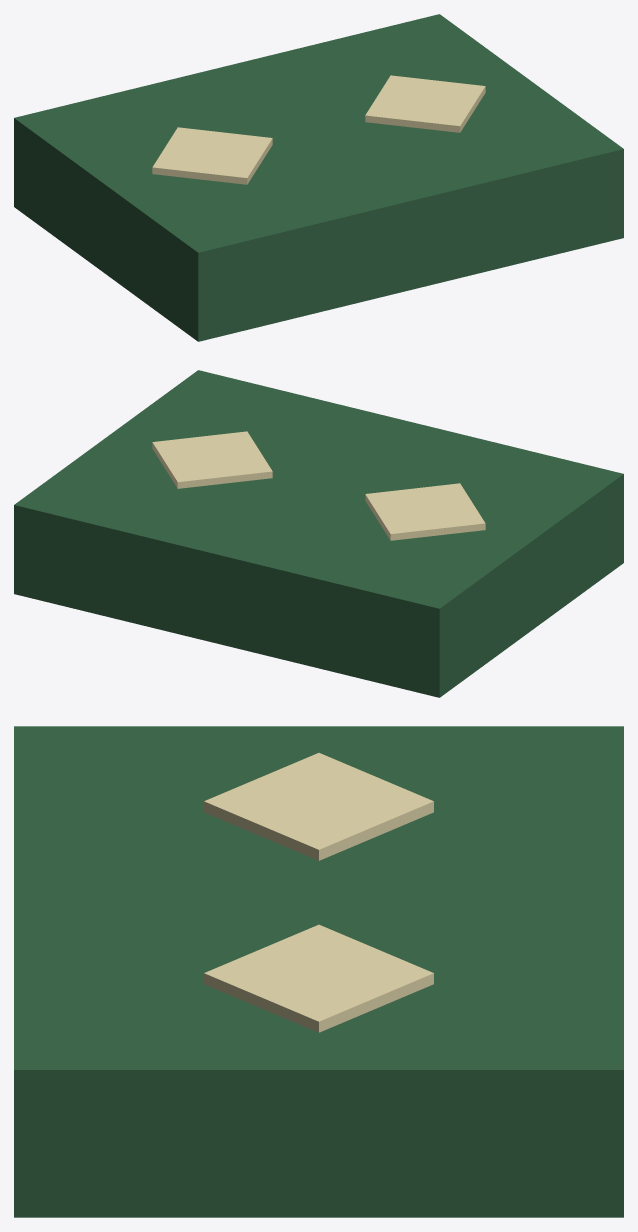
The model's file is folded_chess_vest.glb.
3 renders of one model, top to bottom at view 1: azimuth 30°, elevation 25°; view 2: azimuth 150°, elevation 25°; view 3: azimuth 270°, elevation 25°, orthographic. The views are drawn at different scales.
Parts seen in each view (by area): view 1: vest_chess_green, argyle_chess_cream (×2); view 2: vest_chess_green, argyle_chess_cream (×2); view 3: vest_chess_green, argyle_chess_cream (×2).
Boxes of the visible parts, x1,y1,x2,y2 form: vest_chess_green: (14,14,623,341); argyle_chess_cream (×2): (152,75,485,184); vest_chess_green: (14,370,623,697); argyle_chess_cream (×2): (152,431,485,540); vest_chess_green: (14,726,623,1217); argyle_chess_cream (×2): (204,753,433,1032).
Size of the model in its own units: 0.4 by 0.086 by 0.3.
